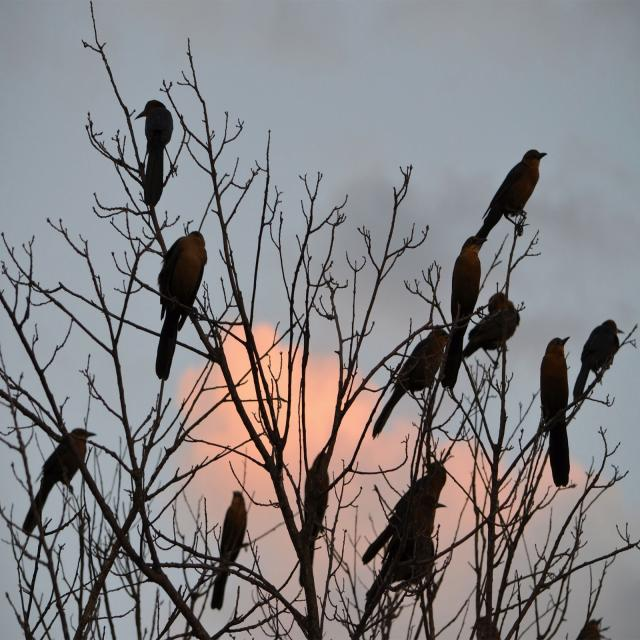bird: (381, 451, 450, 609), (369, 312, 447, 441), (21, 426, 99, 528), (157, 227, 206, 384), (468, 148, 551, 236), (292, 438, 340, 588), (539, 336, 573, 484), (209, 488, 251, 603), (461, 292, 523, 362), (575, 321, 627, 404), (141, 102, 179, 198), (452, 237, 485, 331), (468, 609, 497, 640), (573, 619, 610, 640)
